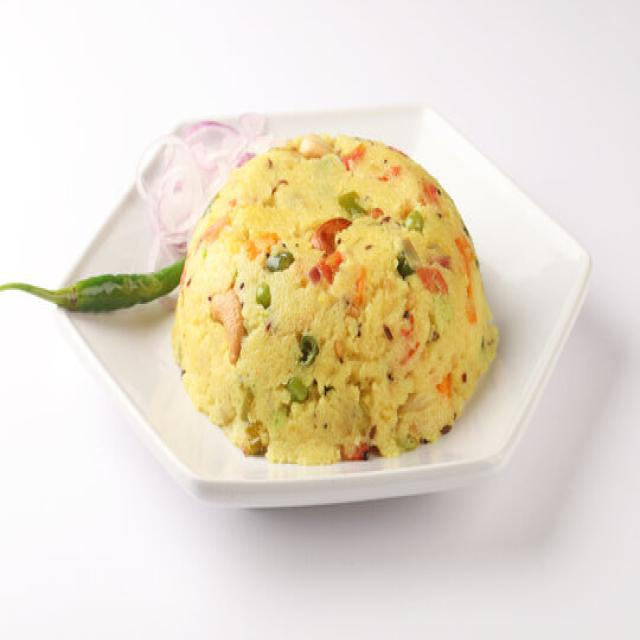UPMA: (168, 139, 498, 470)
